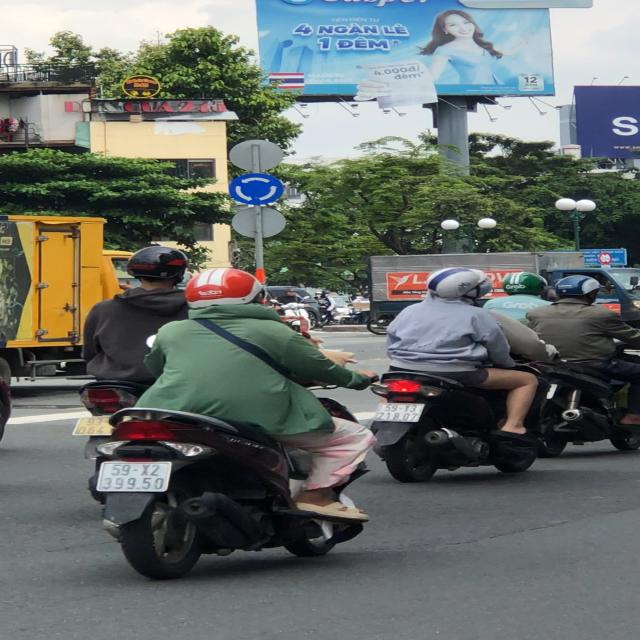Bien bao noi giao nhau chay theo vong xuyen: (228, 172, 294, 208)
